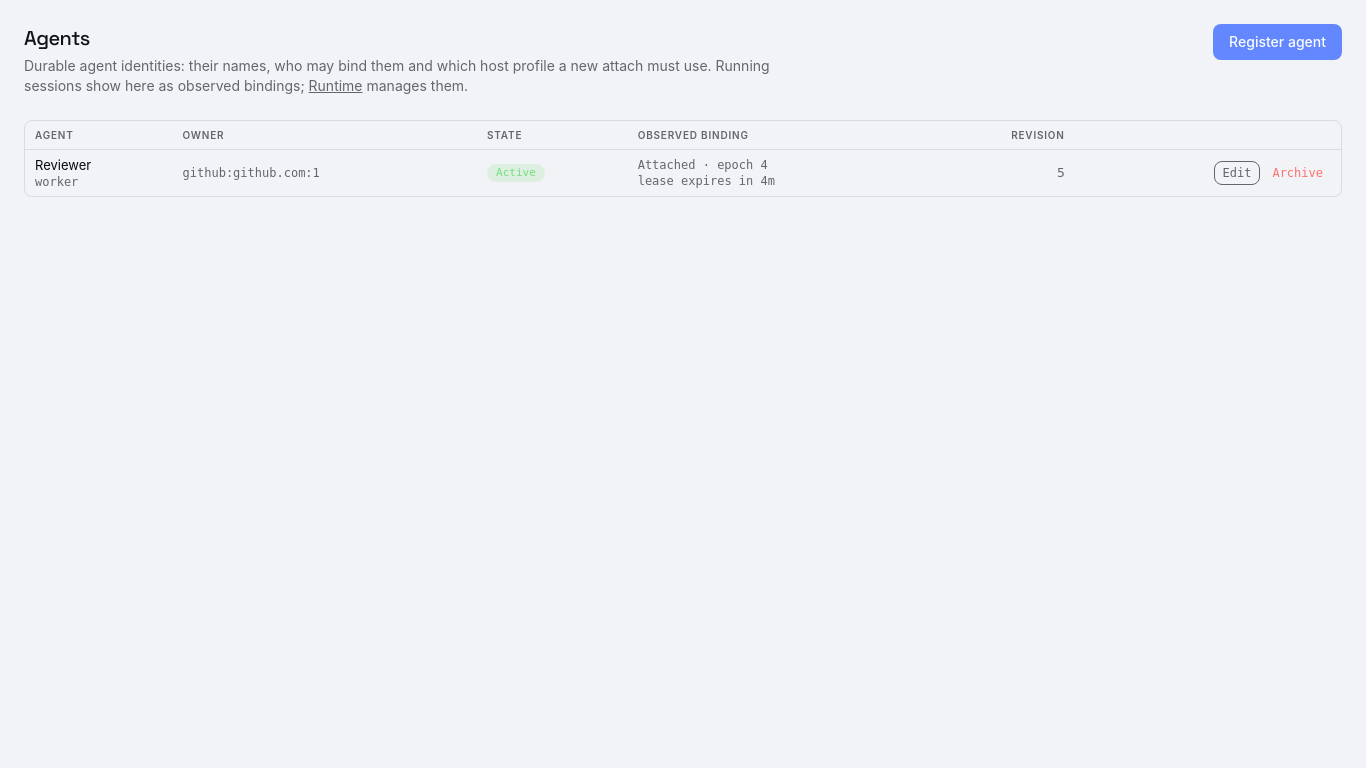
Scenario: observed binding and host profile › the binding is read-only evidence and host profile changes are unsupported
Click the button with aria-label "Edit worker" at (1237, 173), box [1214,161,1260,185]
(page scrolled)
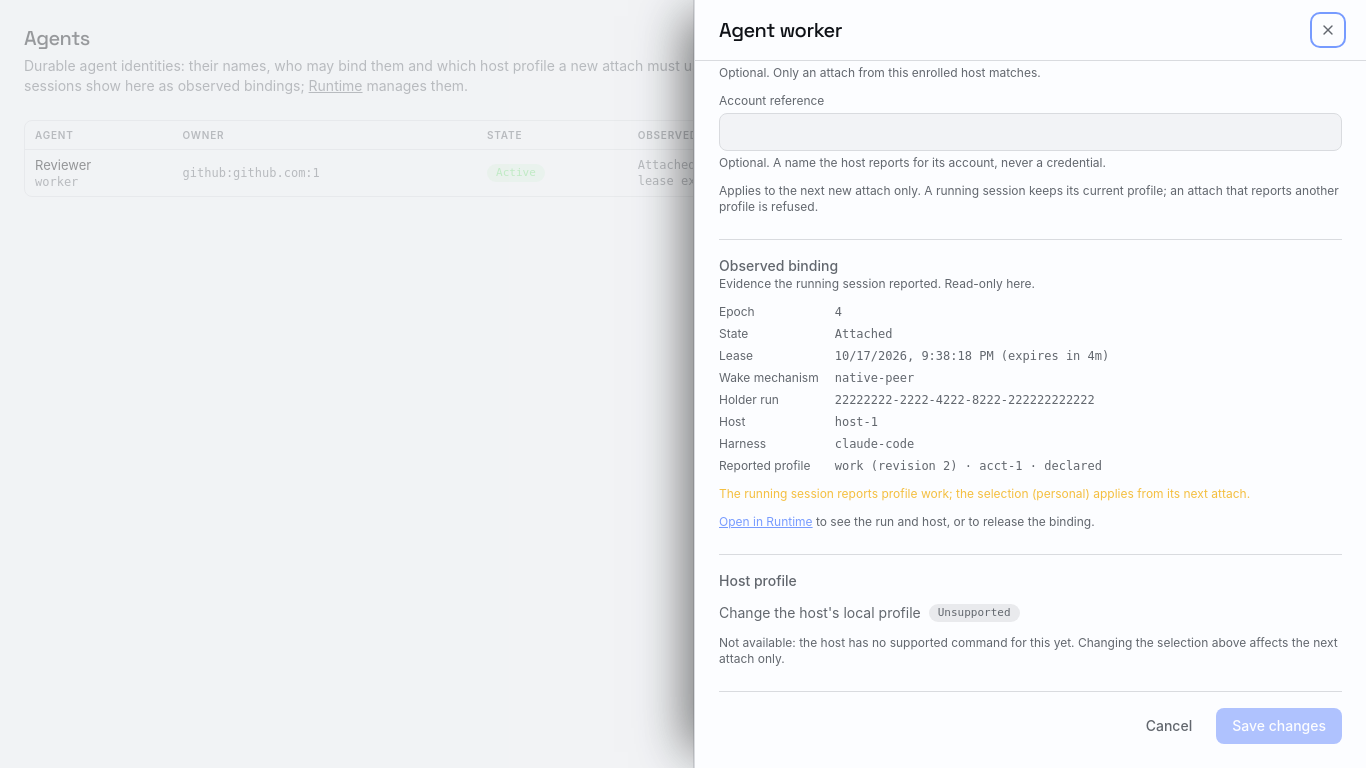
Result: the text "reports profile work; the selection" is shown at [719,486,1342,502]
Result: the text "Change the host's local profile" is shown at [719,604,921,621]
Result: the text "Unsupported" is shown at [929,604,1020,622]
